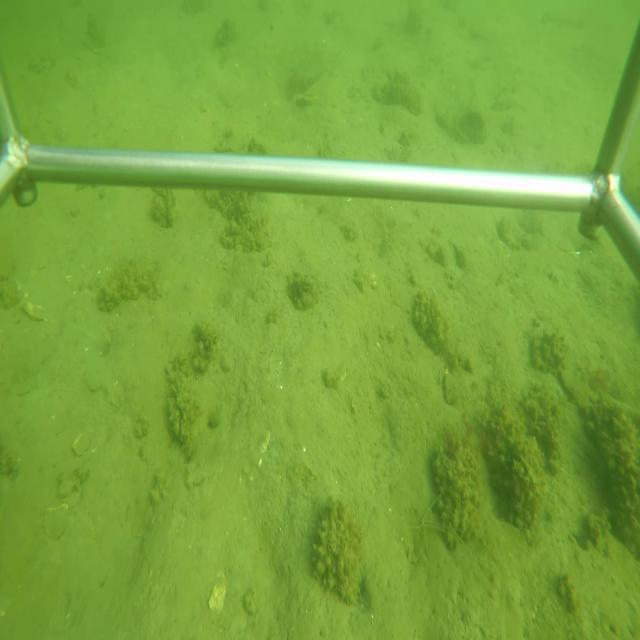Oyster-Indeterminate: (441, 368, 455, 407)
